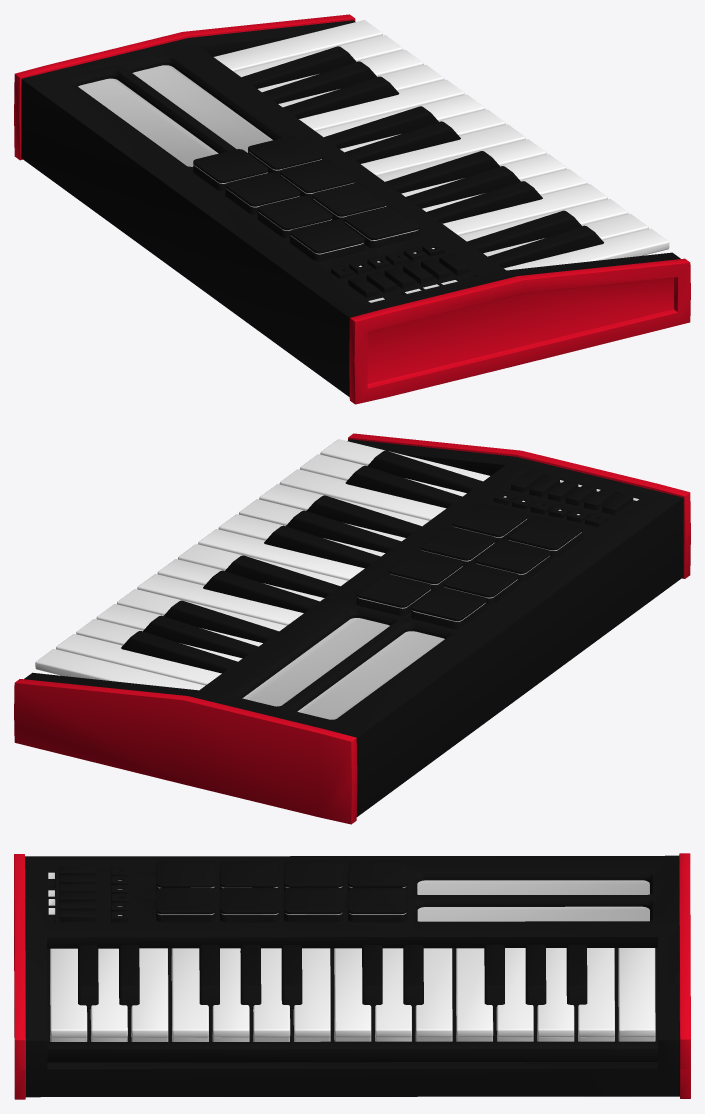
File: KeyboardSimpler.fbx
3 renders of one model, top to bottom at view 1: azimuth 30°, elevation 25°; view 2: azimuth 150°, elevation 25°; view 3: azimuth 270°, elevation 25°, orthographic.
Visible parts, largest first — view 1: MIDI Keyboard, White keys, Black keys 4, Black keys 2, Black keys 3, Black keys 1; view 2: MIDI Keyboard, White keys, Black keys 2, Black keys 4, Black keys 1, Black keys 3; view 3: MIDI Keyboard, White keys, Cube.033, Black keys 4, Black keys 2, Black keys 1, Black keys 3.
Part boxes in pixels (x1,y1,x2,y2): MIDI Keyboard: (14, 14, 690, 404); White keys: (214, 20, 669, 270); Black keys 4: (241, 46, 399, 118); Black keys 2: (385, 151, 542, 223); Black keys 3: (324, 106, 460, 163); Black keys 1: (467, 210, 603, 268); MIDI Keyboard: (14, 433, 690, 824); White keys: (35, 439, 489, 690); Black keys 2: (264, 495, 421, 568); Black keys 4: (121, 600, 278, 673); Black keys 1: (345, 450, 482, 508); Black keys 3: (203, 555, 340, 612); MIDI Keyboard: (14, 853, 690, 1099); White keys: (50, 948, 655, 1041); Cube.033: (47, 1041, 658, 1062); Black keys 4: (484, 944, 587, 1008); Black keys 2: (199, 945, 302, 1008); Black keys 1: (78, 945, 139, 1008); Black keys 3: (362, 945, 423, 1008).
Size of the model in its own units: 22.52 by 5.9 by 39.21.
